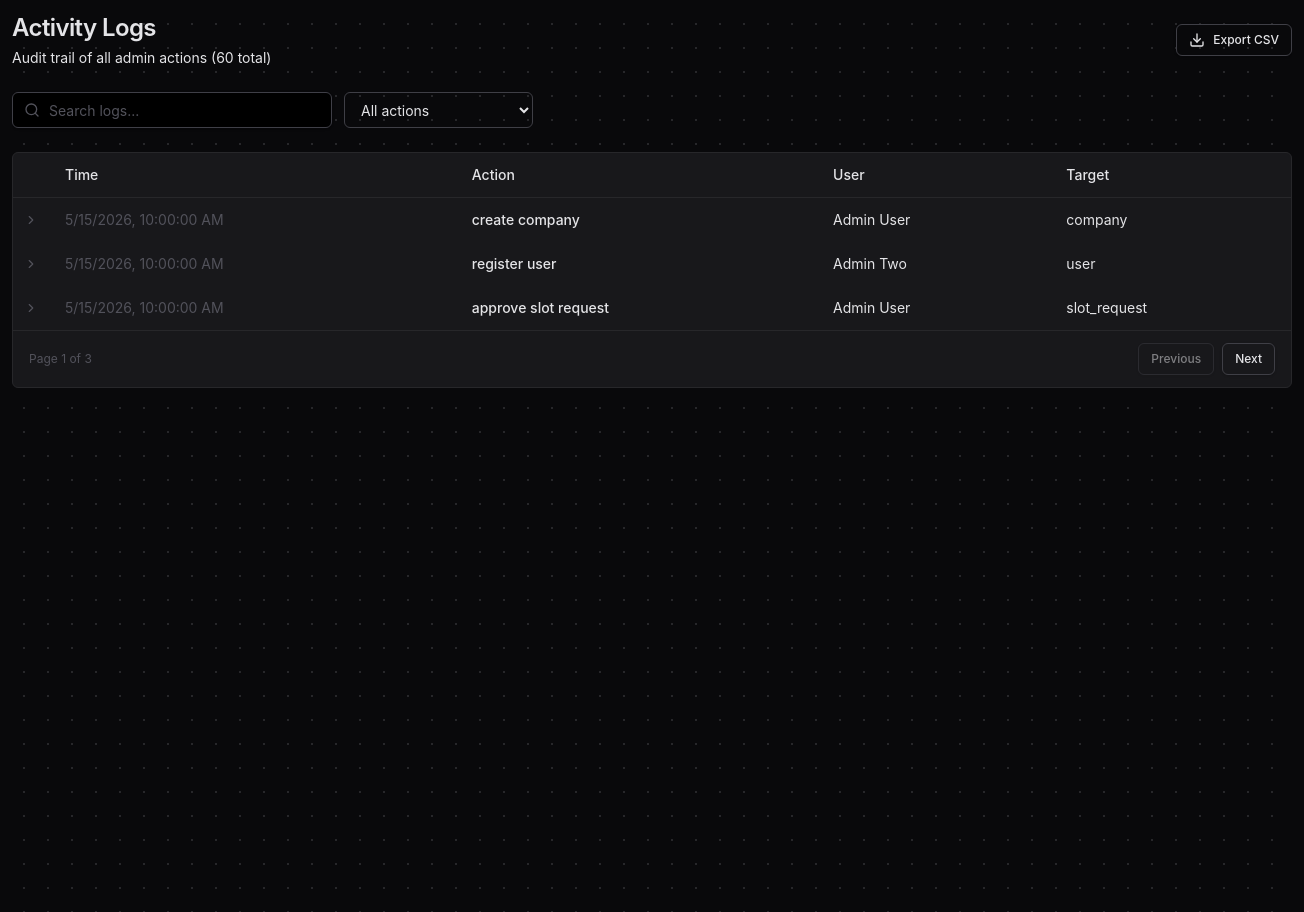
AdminLogs › T-M3-3.D.1 - Loading, debounced search, action filters, pagination, empty states › changing action filter resets page to 0
This screenshot has width=1304, height=912.
Expected: the text "create company" is shown, 472,211 -> 580,228
Navigate to page 2
Click the button "Next" at (1249, 359), box 1222,343 -> 1275,375
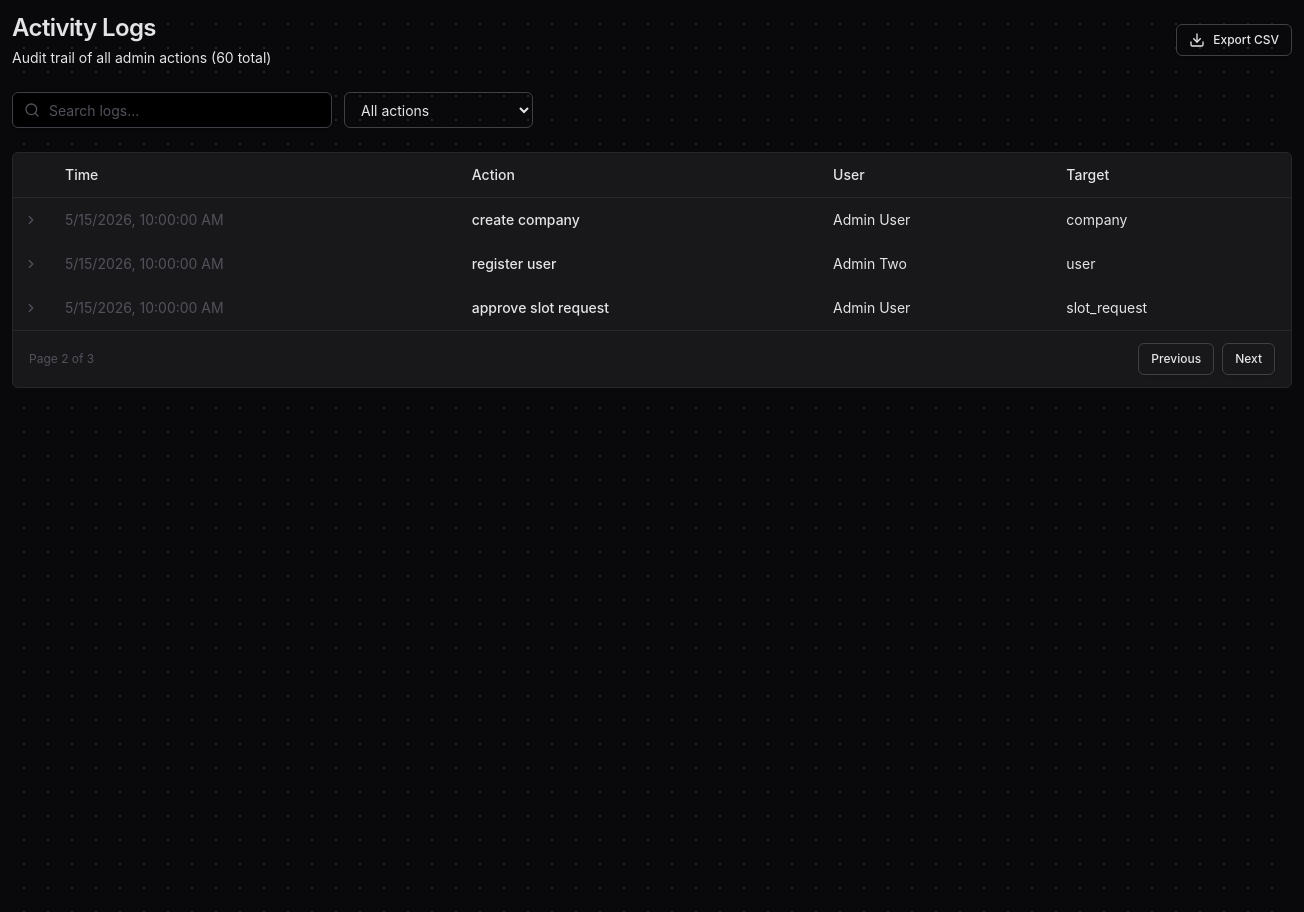
Result: the text "Page 2 of 3" is shown at 29,351 -> 94,367
Change filter - should reset to page 1
Select "Create Company" in the dropdown at (438, 110), box 344,92 -> 533,128
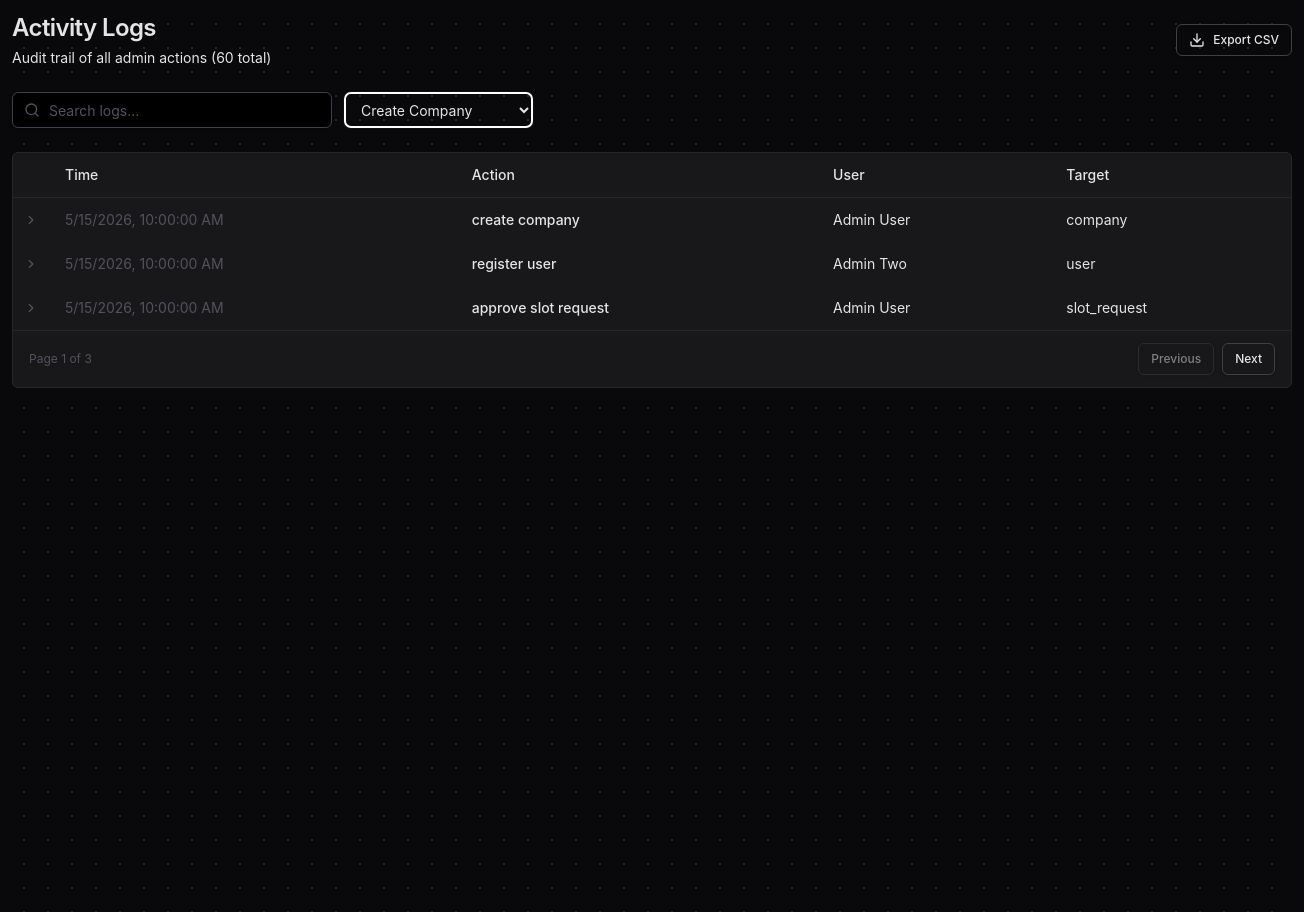
Result: the text "Page 1 of 3" is shown at 29,351 -> 92,367
